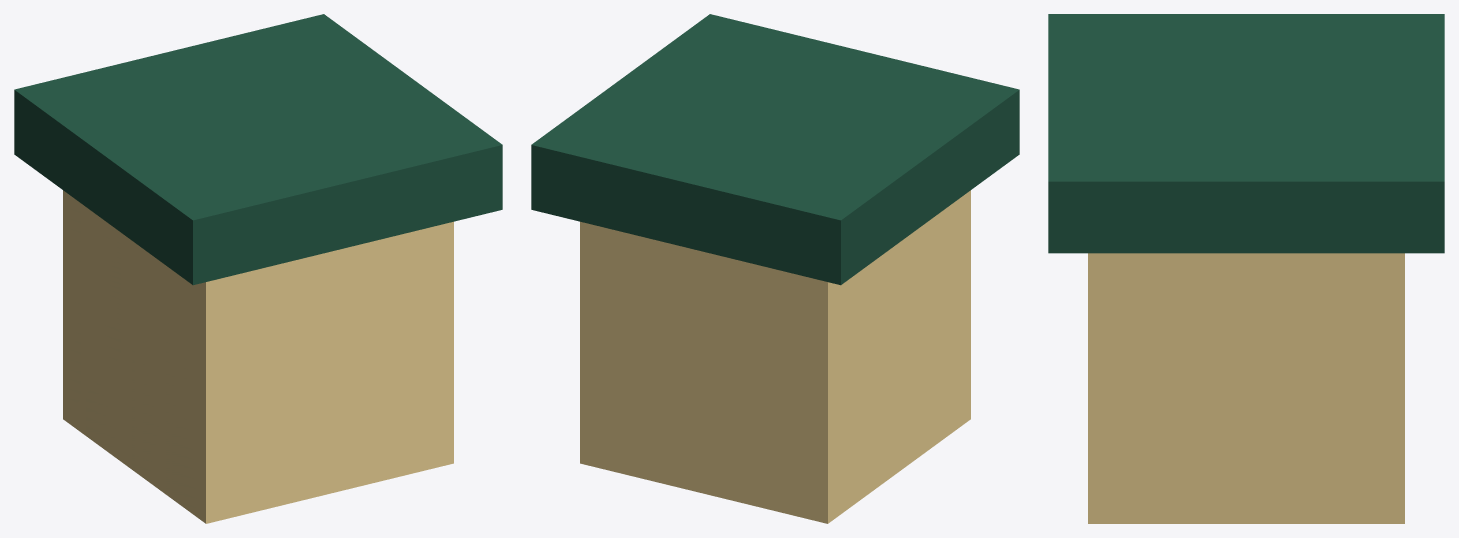
The model's file is lantern-floor.glb.
3 renders of one model, left to right at view 1: azimuth 30°, elevation 25°; view 2: azimuth 150°, elevation 25°; view 3: azimuth 270°, elevation 25°, orthographic. The views are drawn at different scales.
Parts seen in each view (by area): view 1: FloorMesh; view 2: FloorMesh; view 3: FloorMesh.
Part boxes in pixels (x1=…): FloorMesh: x1=14, y1=14, x2=502, y2=523; FloorMesh: x1=531, y1=14, x2=1019, y2=523; FloorMesh: x1=1048, y1=14, x2=1444, y2=523.
Size of the model in its own units: 0.5 by 0.5 by 0.5.
1 material, 1 textured.
